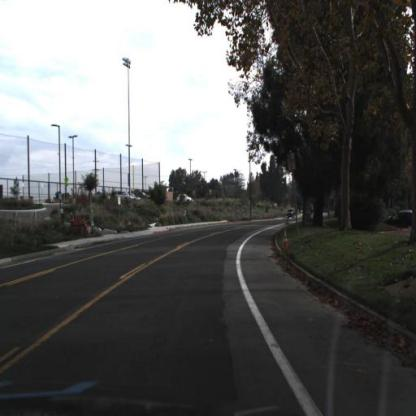car: (285, 204, 298, 223)
